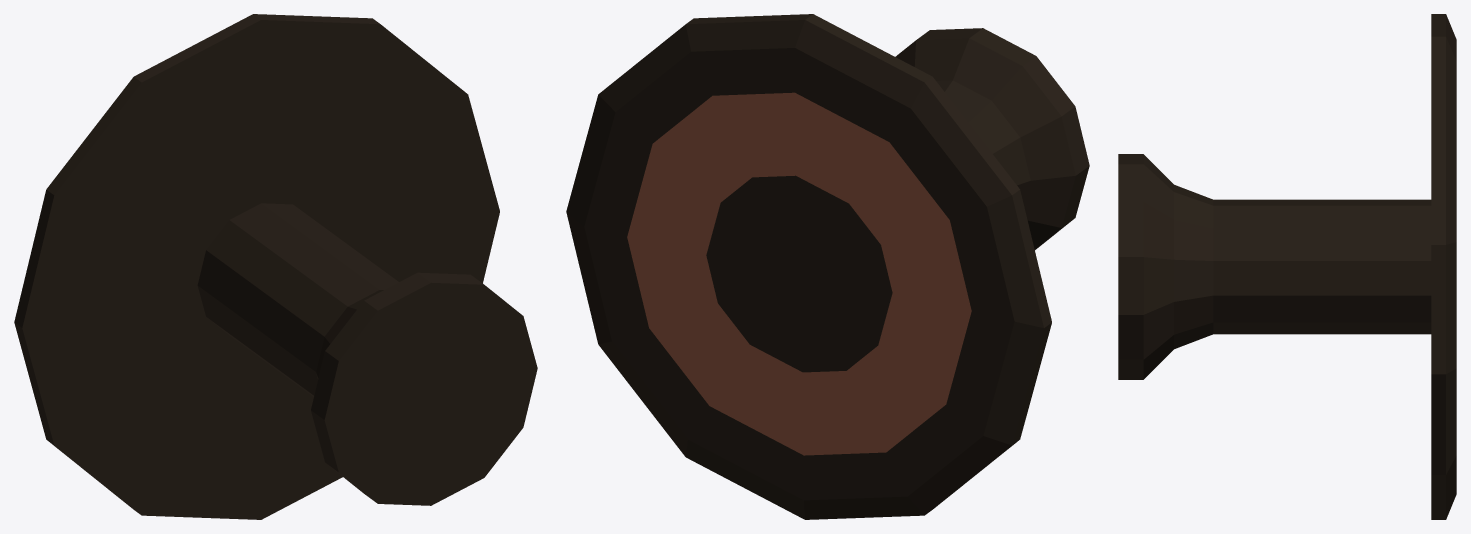
The model's file is RoundTable.fbx.
The picture shows the model from 3 angles, left to right: view 1: azimuth 30°, elevation 25°; view 2: azimuth 150°, elevation 25°; view 3: azimuth 270°, elevation 25°; orthographic projection. The views are drawn at different scales.
Visible parts, largest first — view 1: RoundTable; view 2: RoundTable; view 3: RoundTable.
Boxes of the visible parts, left/top/right/bottom form: RoundTable: left=14, top=14, right=537, bottom=519; RoundTable: left=566, top=14, right=1089, bottom=519; RoundTable: left=1118, top=14, right=1456, bottom=519.
Bounding box in the file's own units: 200 × 200 × 133.
